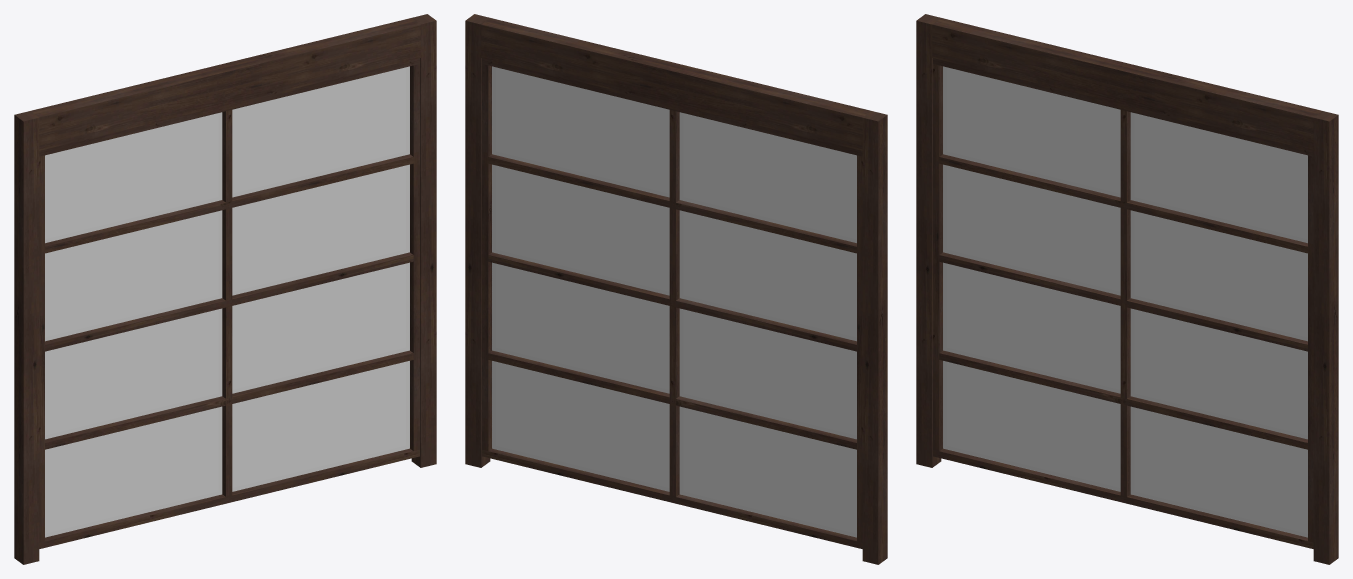
File: es-polycaB_h2000_darkpine.fbx
3 renders of one model, left to right at view 1: azimuth 30°, elevation 25°; view 2: azimuth 150°, elevation 25°; view 3: azimuth 330°, elevation 25°, orthographic.
Visible parts, largest first — view 1: es-polycaB_h2000_darkpine; view 2: es-polycaB_h2000_darkpine; view 3: es-polycaB_h2000_darkpine.
Boxes of the visible parts, <box> form: es-polycaB_h2000_darkpine: <box>14,14,436,564</box>; es-polycaB_h2000_darkpine: <box>465,14,887,564</box>; es-polycaB_h2000_darkpine: <box>916,14,1338,564</box>.
Bounding box in the file's own units: 195 × 200 × 7.5.
2 materials, 1 textured.
